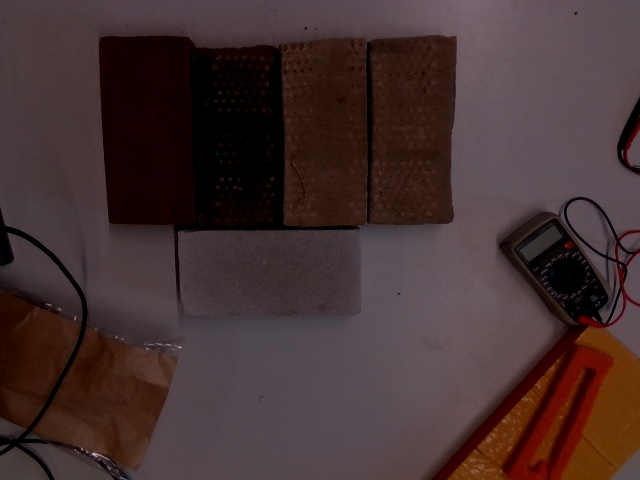brick: (104, 39, 191, 225), (180, 232, 355, 318), (285, 45, 365, 226), (373, 41, 447, 223), (201, 50, 271, 225)
